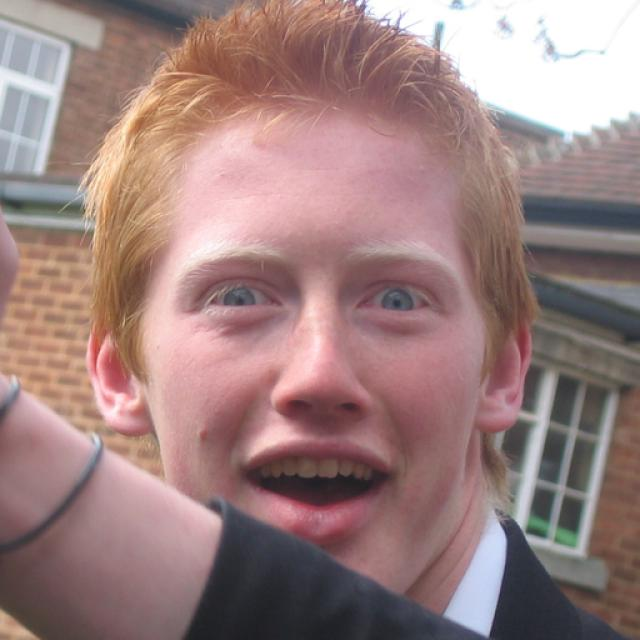Acne: (189, 418, 216, 450)
